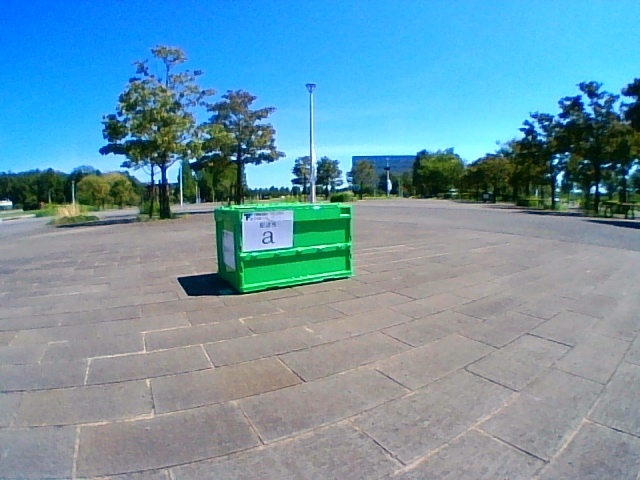green_box: (213, 203, 353, 294)
tag_a: (246, 213, 290, 248)
